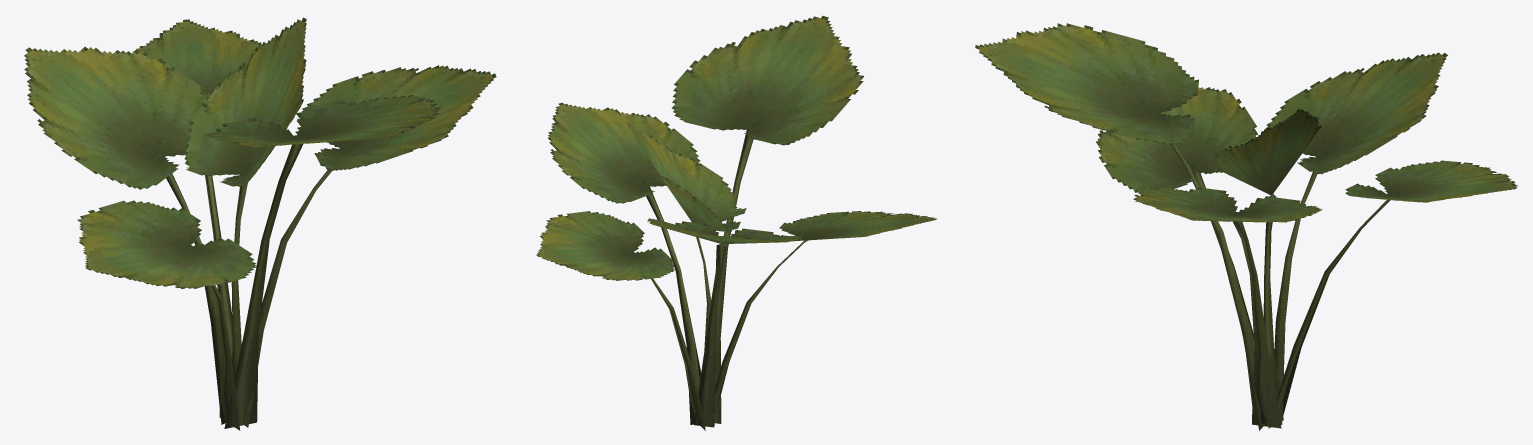
The model's file is yw_newshanlin_zhibei_002.FBX.
The picture shows the model from 3 angles, left to right: view 1: azimuth 30°, elevation 25°; view 2: azimuth 150°, elevation 25°; view 3: azimuth 270°, elevation 25°; orthographic projection. The views are drawn at different scales.
Parts seen in each view (by area): view 1: yw_newshanlin_zhibei_002; view 2: yw_newshanlin_zhibei_002; view 3: yw_newshanlin_zhibei_002.
Boxes of the visible parts, x1,y1,x2,y2 form: yw_newshanlin_zhibei_002: (24,17,496,430); yw_newshanlin_zhibei_002: (536,15,936,430); yw_newshanlin_zhibei_002: (975,23,1517,430).
Size of the model in its own units: 1.4 by 1.56 by 1.2.
